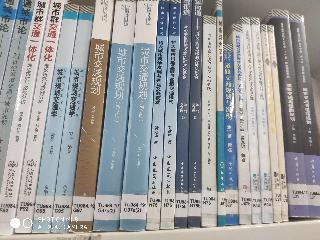book-spine: (0, 0, 50, 235), (15, 0, 65, 234), (33, 3, 79, 234), (70, 0, 114, 232), (93, 0, 136, 231), (52, 5, 93, 233), (121, 0, 158, 230), (270, 9, 308, 217), (285, 13, 320, 217), (0, 0, 34, 190), (147, 1, 168, 229), (260, 25, 282, 223), (161, 1, 180, 229), (251, 18, 272, 223), (241, 16, 261, 223), (231, 24, 250, 223), (269, 25, 288, 219), (176, 1, 191, 227), (220, 44, 238, 224), (202, 16, 216, 225), (189, 2, 201, 227), (216, 1, 225, 225)
